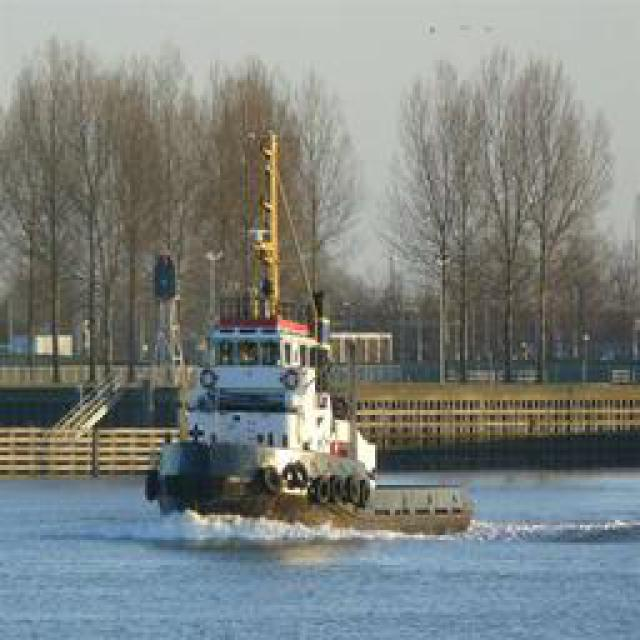Ship: (140, 115, 383, 530)
